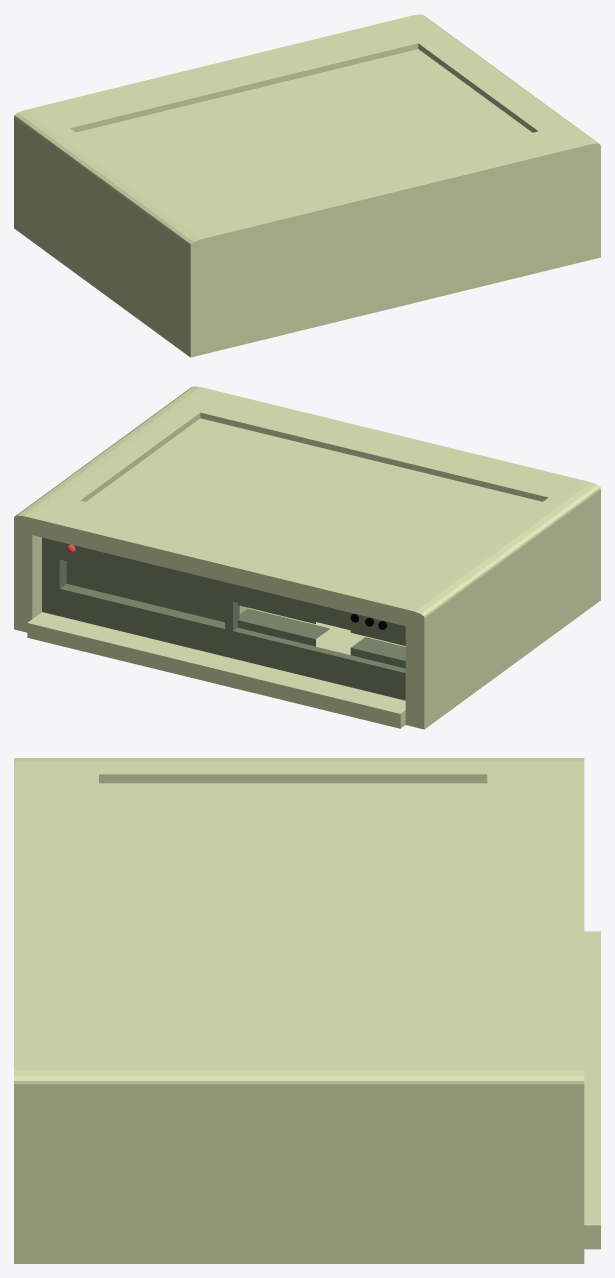
File: compaq_tower.fbx
3 renders of one model, top to bottom at view 1: azimuth 30°, elevation 25°; view 2: azimuth 150°, elevation 25°; view 3: azimuth 270°, elevation 25°, orthographic. The views are drawn at different scales.
Visible parts, largest first — view 1: compaq; view 2: compaq; view 3: compaq.
Part boxes in pixels (left/top/right/bottom): compaq: left=14, top=14, right=600, bottom=357; compaq: left=14, top=386, right=600, bottom=729; compaq: left=14, top=758, right=600, bottom=1263.
Size of the model in its own units: 268 by 72.3 by 206.
